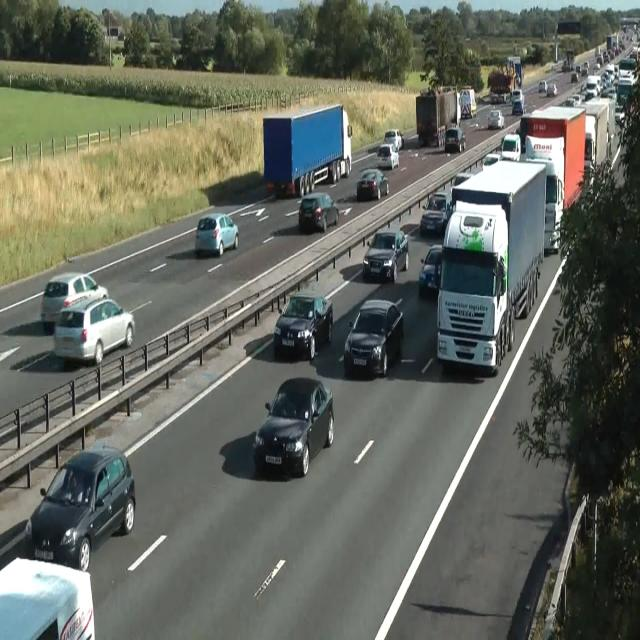bus: (252, 376, 334, 476), (0, 556, 95, 639), (195, 212, 239, 256), (298, 192, 338, 232), (420, 191, 450, 236), (418, 243, 442, 297), (356, 167, 389, 201), (446, 172, 472, 212), (375, 142, 399, 170), (444, 126, 466, 153), (384, 129, 404, 150), (488, 108, 504, 129), (452, 172, 472, 188), (482, 153, 500, 169), (512, 100, 526, 114), (510, 89, 522, 103), (546, 82, 557, 97), (538, 79, 547, 93)
jeep: (24, 444, 136, 572), (53, 295, 135, 365), (344, 298, 404, 378), (40, 271, 108, 332), (273, 291, 333, 360), (362, 228, 408, 282), (501, 132, 521, 161)
minibus: (436, 158, 546, 375), (518, 105, 586, 254), (262, 103, 352, 198), (561, 93, 615, 187), (415, 86, 461, 148), (487, 56, 523, 104), (459, 87, 477, 118), (506, 56, 522, 87)
